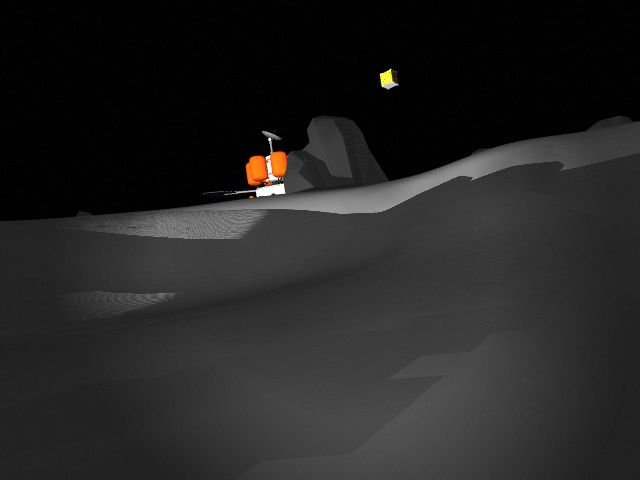cubesat: (373, 64, 410, 95)
